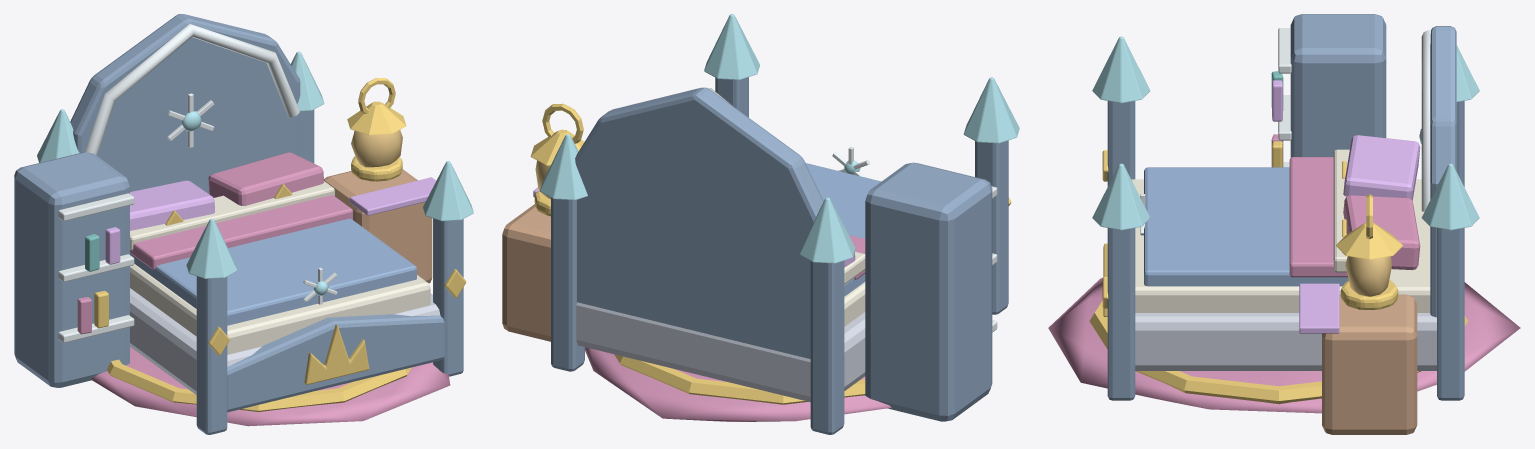
The model's file is northern_bedroom_set.glb.
3 renders of one model, left to right at view 1: azimuth 30°, elevation 25°; view 2: azimuth 150°, elevation 25°; view 3: azimuth 270°, elevation 25°, orthographic. The views are drawn at different scales.
Parts seen in each view (by area): view 1: northern_bedroom_set.001; view 2: northern_bedroom_set.001; view 3: northern_bedroom_set.001.
Part boxes in pixels (x1=…): northern_bedroom_set.001: x1=14, y1=14, x2=473, y2=434; northern_bedroom_set.001: x1=502, y1=14, x2=1019, y2=434; northern_bedroom_set.001: x1=1048, y1=14, x2=1520, y2=434.
Size of the model in its own units: 10.67 by 7.19 by 9.9.
